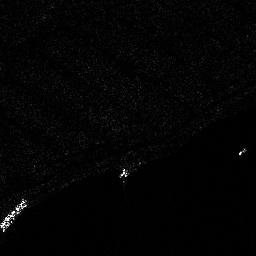ship: (1, 198, 26, 231)
